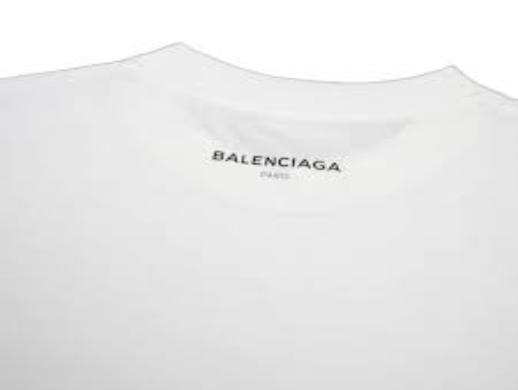BALENCIAGA: (209, 147, 343, 175)
